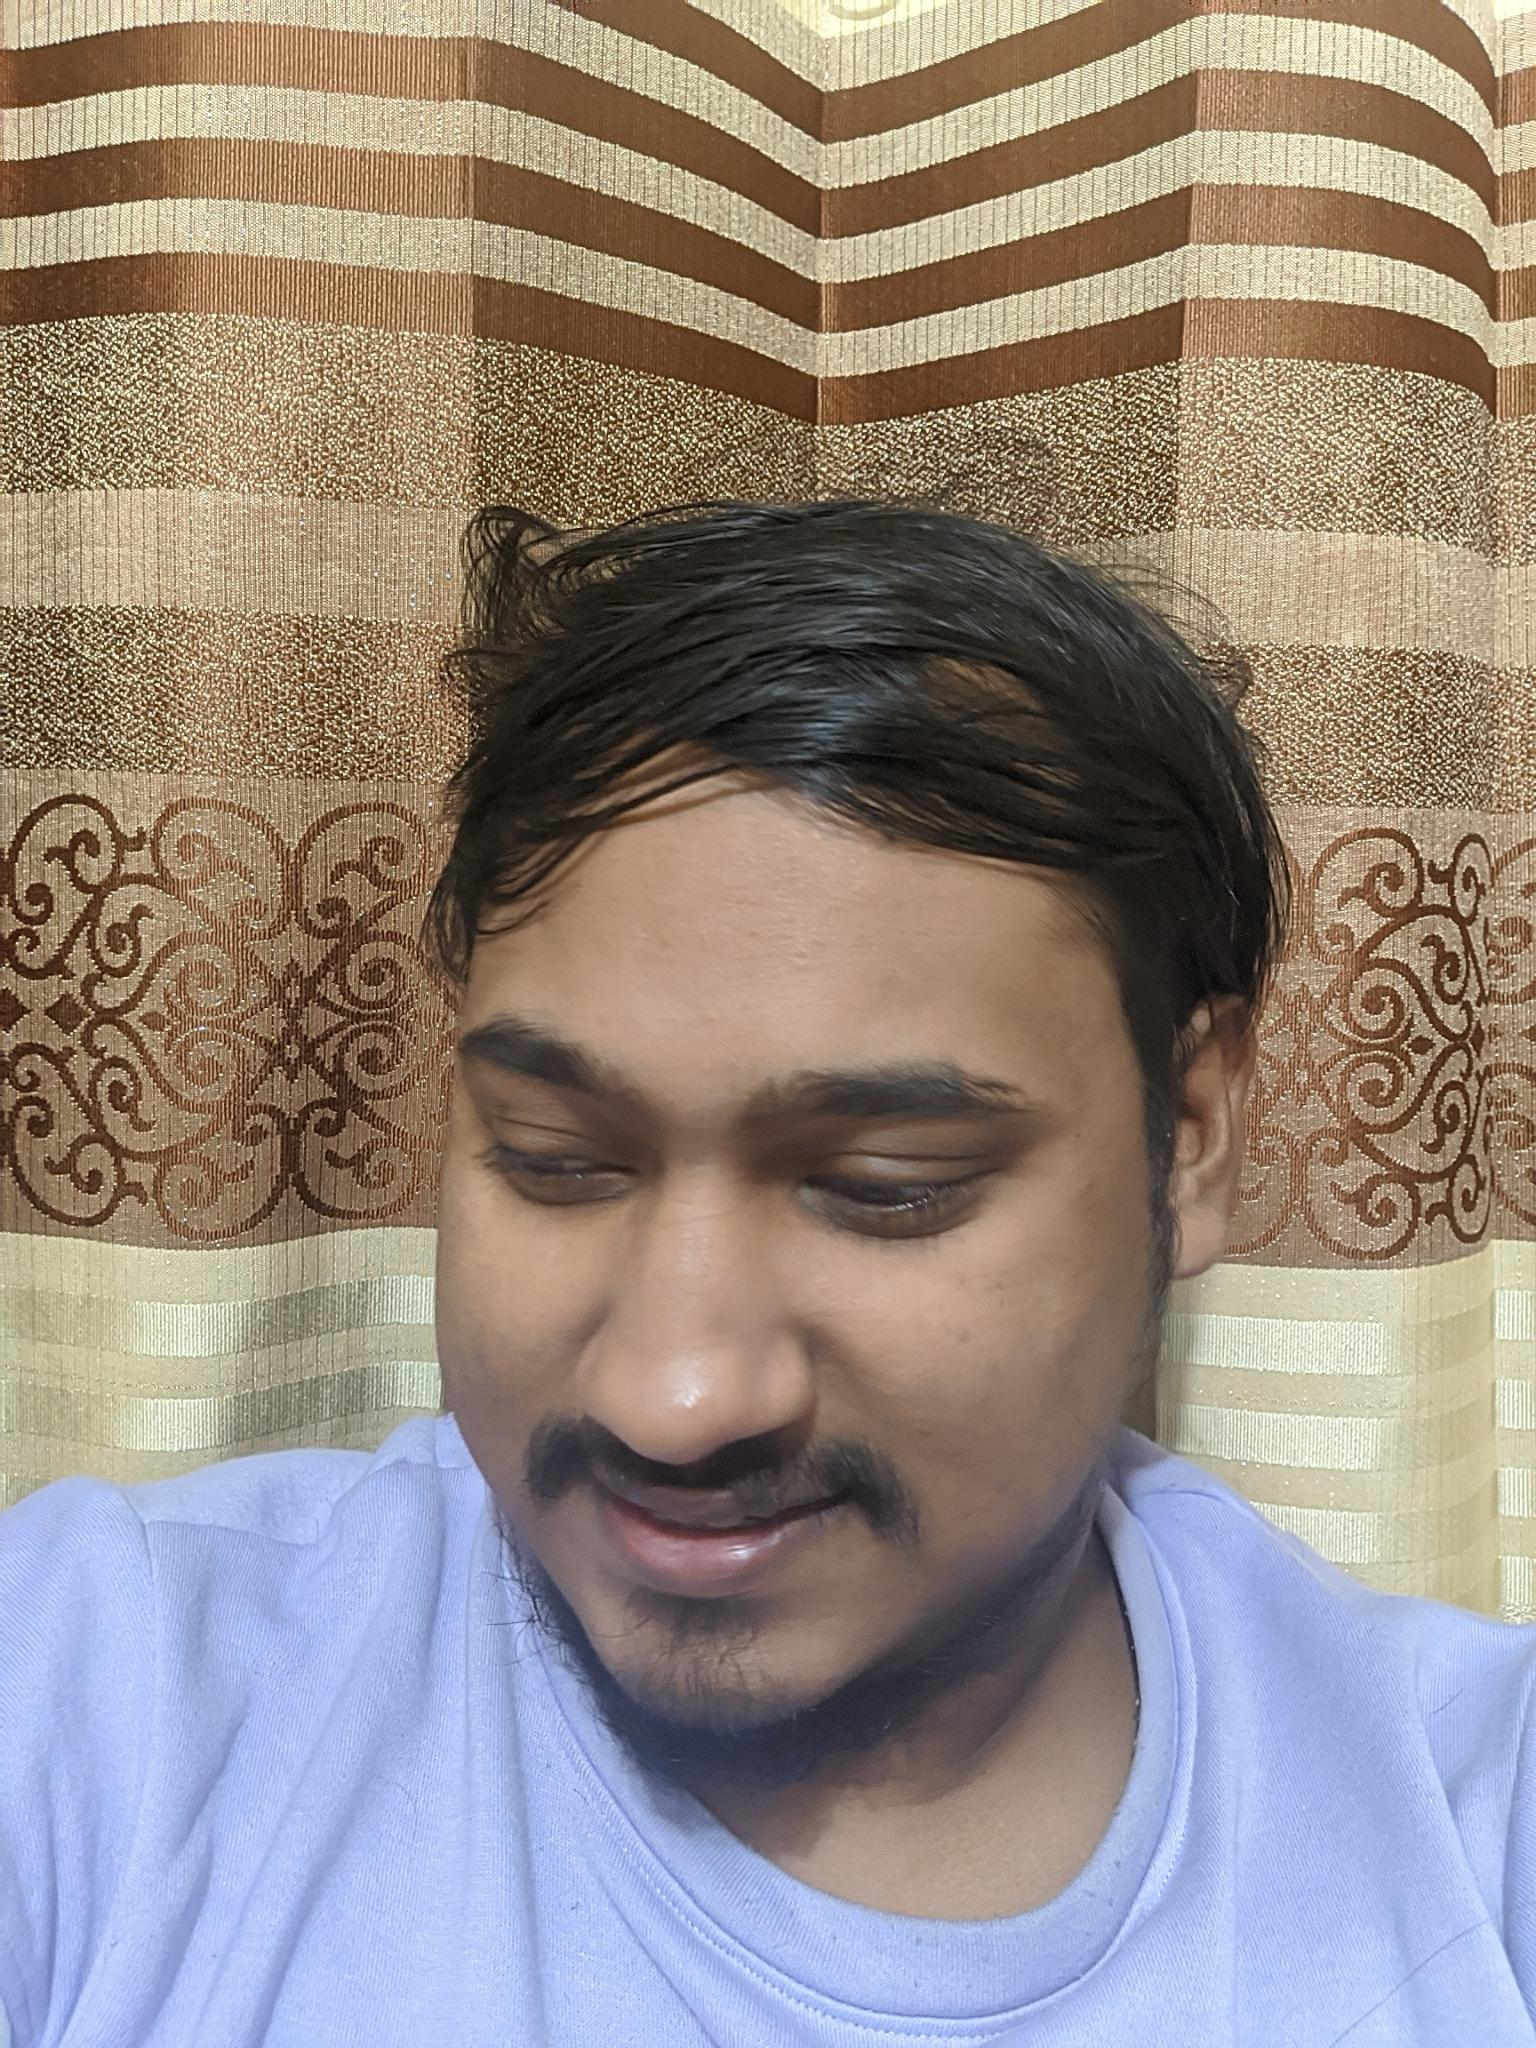Happy: (387, 877, 1134, 1763)
